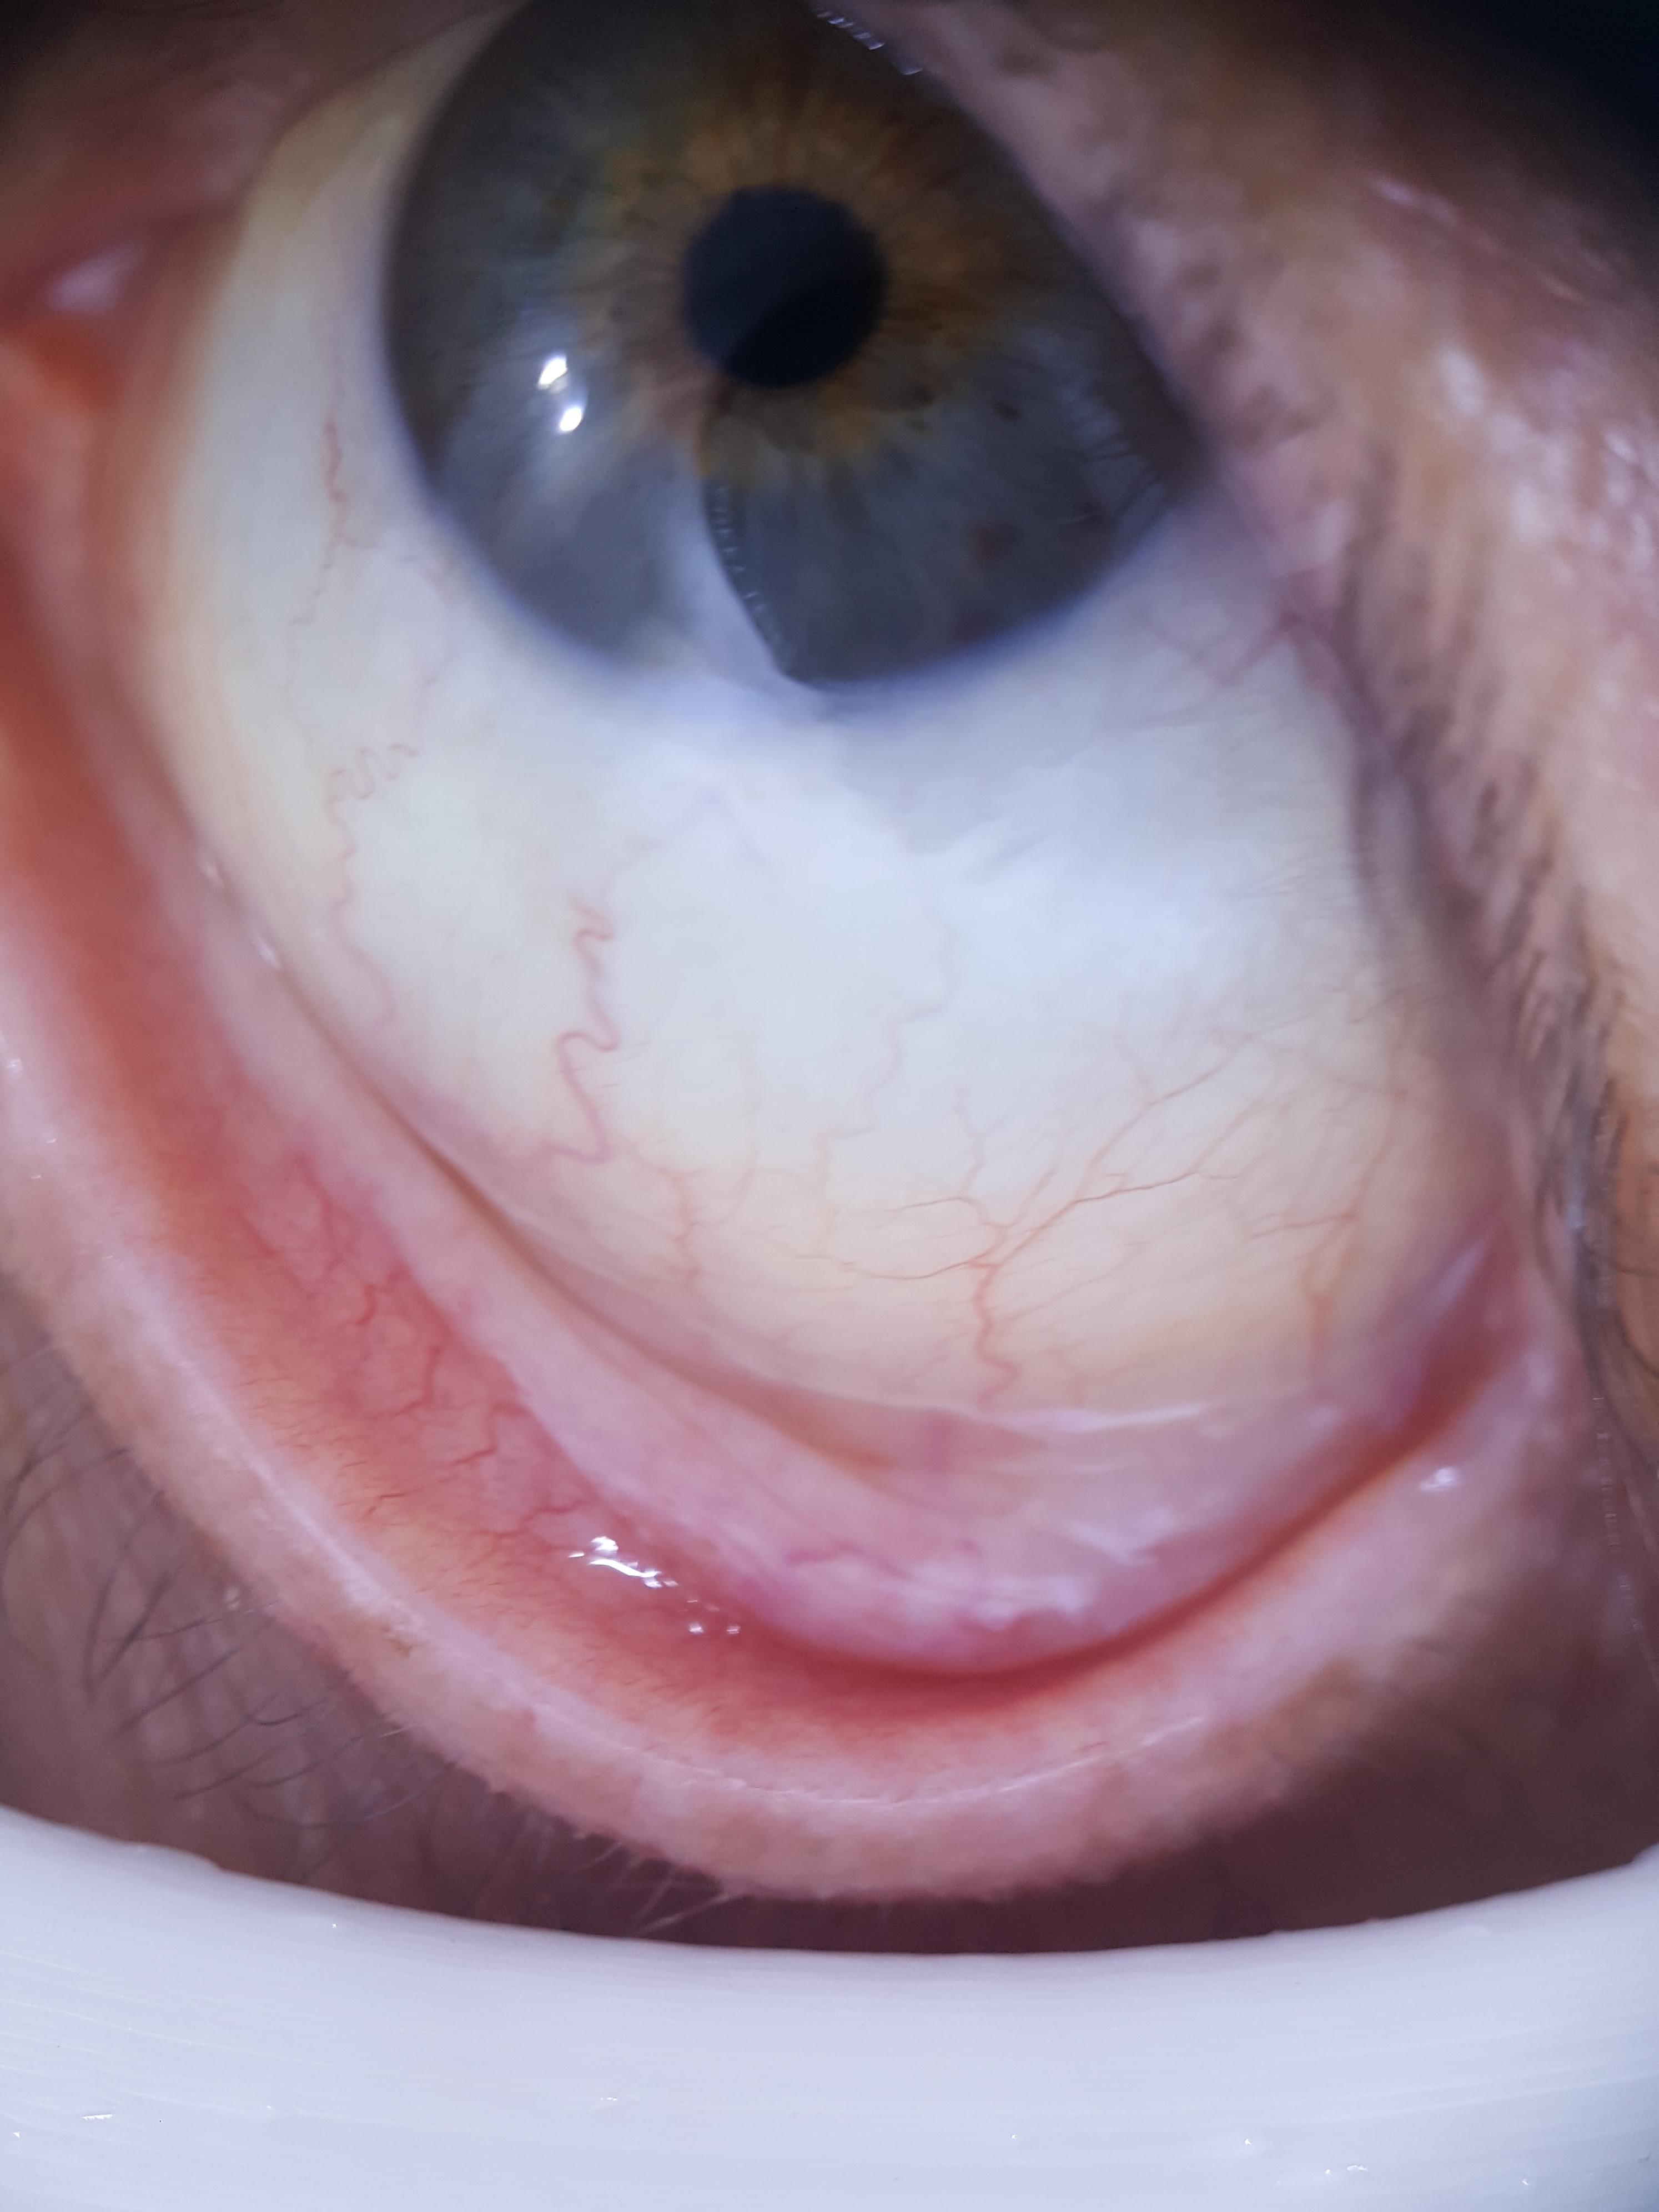forniceal: (99, 738, 1389, 1672)
forniceal_palpebral: (0, 604, 1410, 1749)
palpebral: (0, 604, 1110, 1749)
